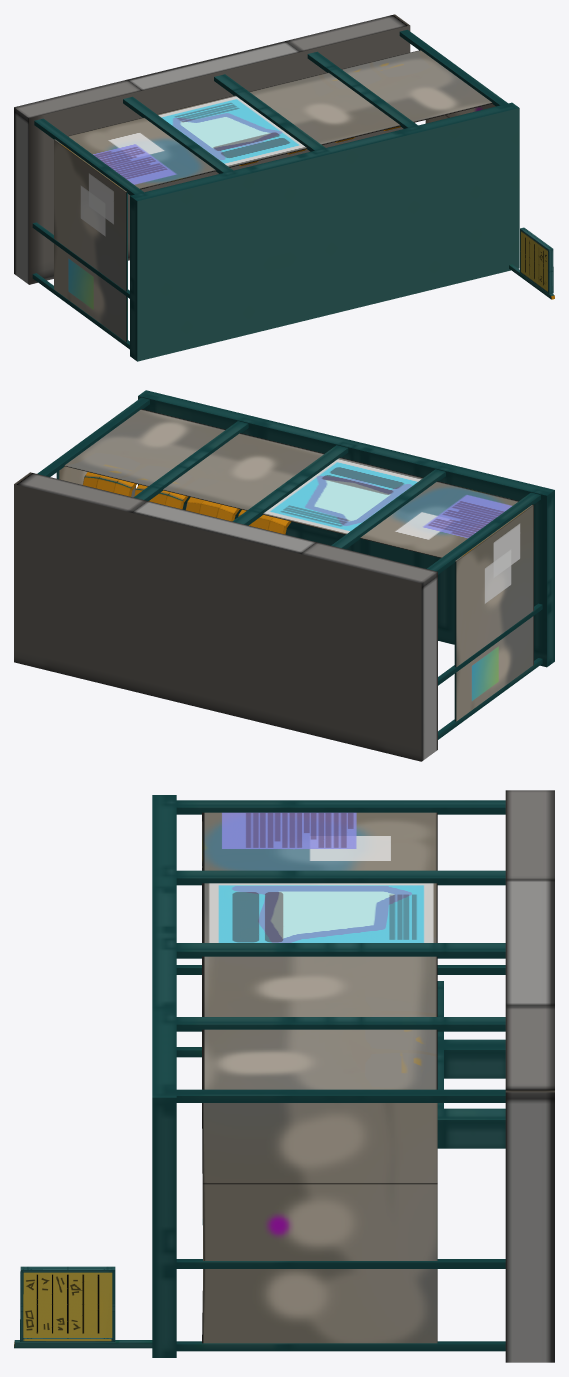
Rendered from BUS STOP.fbx.
The picture shows the model from 3 angles, top to bottom: view 1: azimuth 30°, elevation 25°; view 2: azimuth 150°, elevation 25°; view 3: azimuth 270°, elevation 25°; orthographic projection. The views are drawn at different scales.
Parts seen in each view (by area): view 1: BUS_STOP; view 2: BUS_STOP; view 3: BUS_STOP.
Part boxes in pixels (x1=…): BUS_STOP: x1=14, y1=14, x2=554, y2=361; BUS_STOP: x1=14, y1=390, x2=554, y2=761; BUS_STOP: x1=14, y1=790, x2=554, y2=1362.
Bounding box in the file's own units: 5.61 × 2.34 × 4.24.
